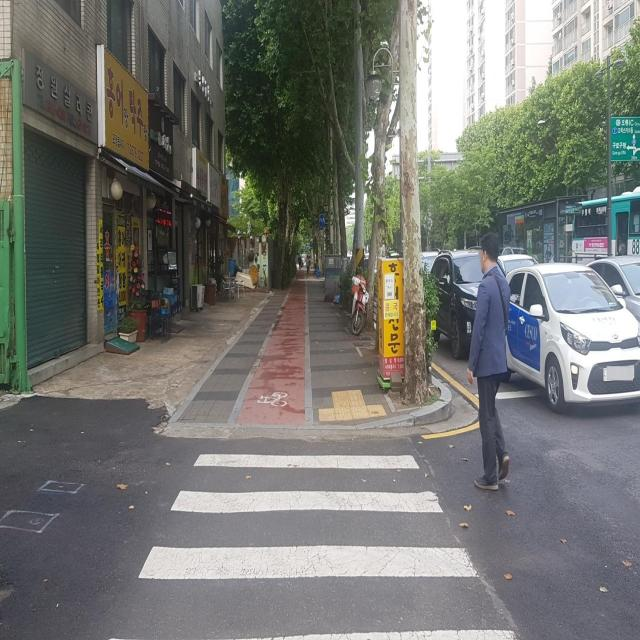횡단보도: (106, 451, 520, 640)
